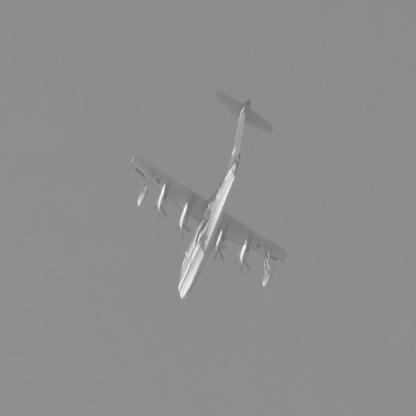US2: (132, 89, 289, 301)
